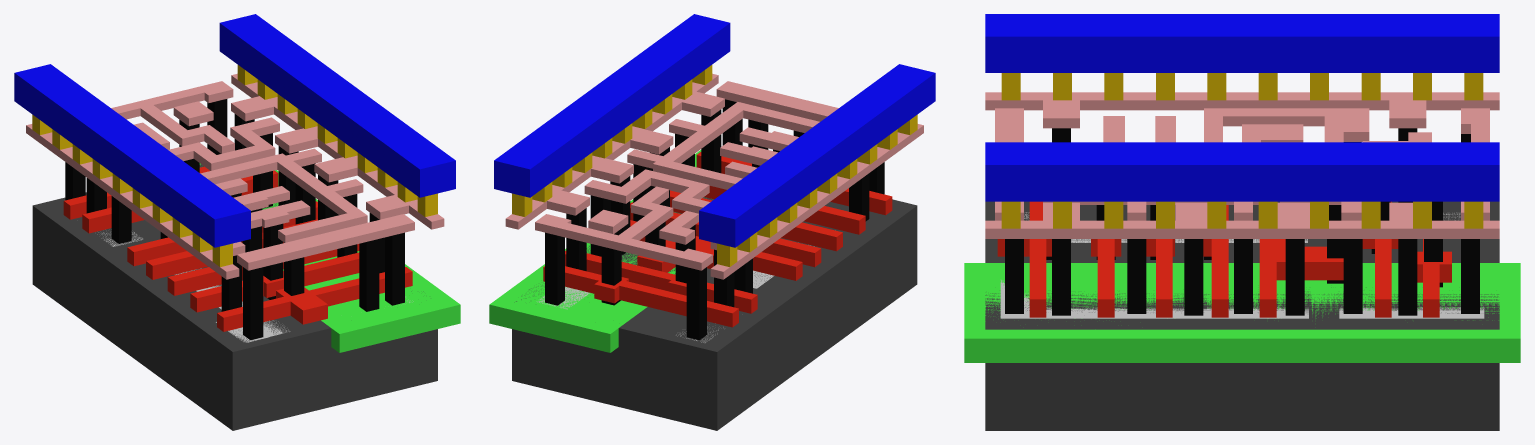
File: sky130_fd_sc_hd__and4bb_1.obj
The picture shows the model from 3 angles, left to right: view 1: azimuth 30°, elevation 25°; view 2: azimuth 150°, elevation 25°; view 3: azimuth 270°, elevation 25°; orthographic projection. The views are drawn at different scales.
Visible parts, largest first — view 1: subs, metal1, li, licon, poly, nwell, mcon, diff; view 2: subs, metal1, li, poly, licon, nwell, mcon; view 3: metal1, subs, nwell, li, licon, poly, mcon, tap.
Part boxes in pixels (<box>): subs: <box>32,164,437,430</box>; metal1: <box>14,14,455,247</box>; li: <box>26,73,444,279</box>; licon: <box>65,99,404,340</box>; poly: <box>63,166,412,331</box>; nwell: <box>199,163,460,352</box>; mcon: <box>32,65,437,266</box>; diff: <box>97,232,290,342</box>; subs: <box>512,197,917,430</box>; metal1: <box>494,14,935,247</box>; li: <box>505,73,923,279</box>; poly: <box>543,152,892,327</box>; licon: <box>545,99,884,340</box>; nwell: <box>489,150,701,352</box>; mcon: <box>512,65,917,266</box>; metal1: <box>985,14,1499,201</box>; subs: <box>985,201,1499,430</box>; nwell: <box>964,263,1520,362</box>; li: <box>985,92,1499,238</box>; licon: <box>1005,128,1479,315</box>; poly: <box>997,201,1451,317</box>; mcon: <box>1001,73,1483,228</box>; tap: <box>1000,280,1484,318</box>.
Bounding box in the file's own units: 3.2 × 2.74 × 4.98.
